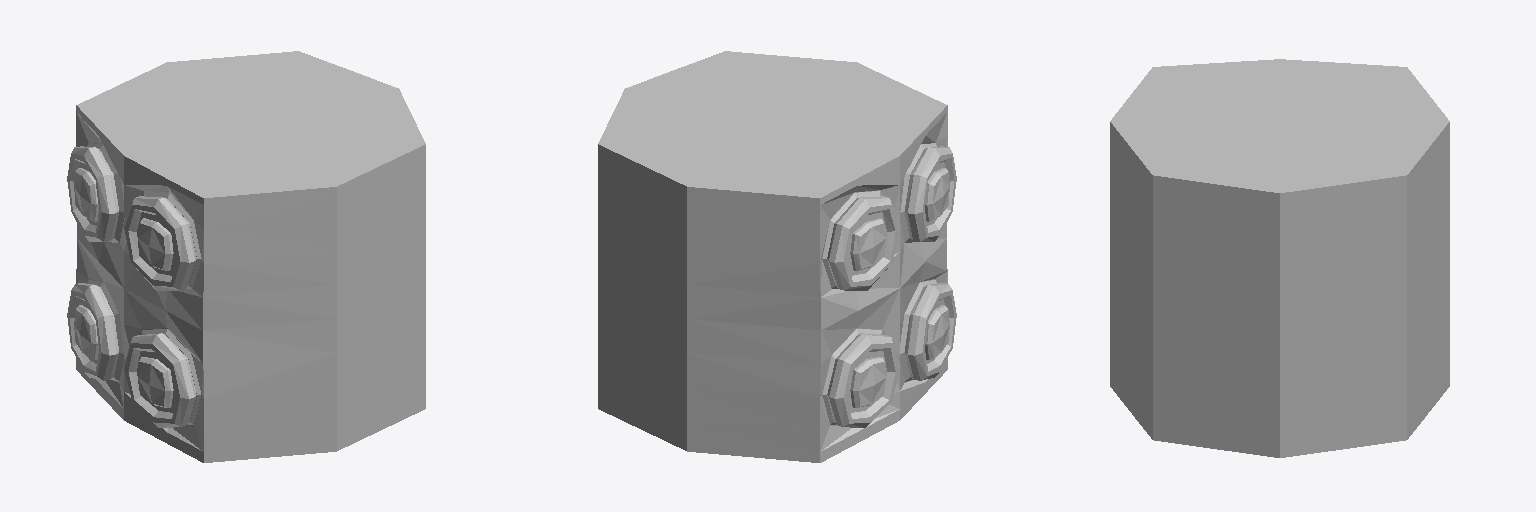
File: Piece_of_tentacle_asset_IM_01.obj
3 renders of one model, left to right at view 1: azimuth 30°, elevation 25°; view 2: azimuth 150°, elevation 25°; view 3: azimuth 270°, elevation 25°, orthographic.
Parts seen in each view (by area): view 1: pCube9; view 2: pCube9; view 3: pCube9.
Part boxes in pixels (left/top/right/bottom): pCube9: left=67, top=51, right=425, bottom=462; pCube9: left=598, top=51, right=956, bottom=462; pCube9: left=1110, top=59, right=1449, bottom=457.
Bounding box in the file's own units: 3.17 × 2.8 × 3.26.